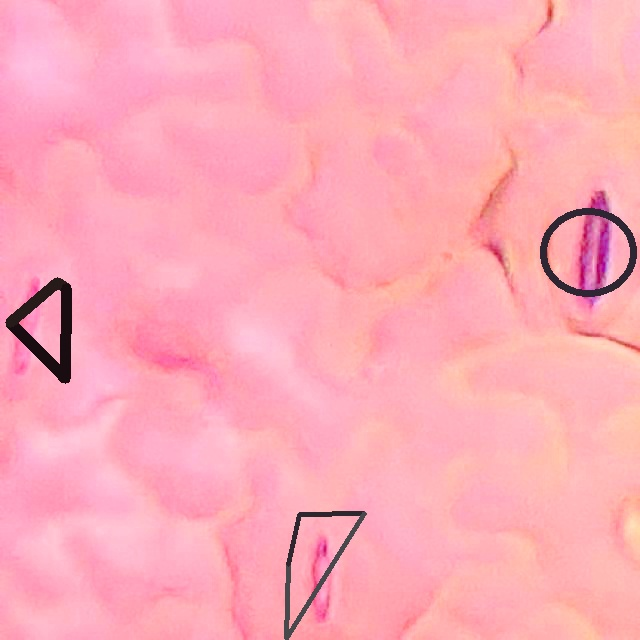open: (286, 512, 366, 639), (540, 207, 635, 296), (5, 278, 71, 382)
